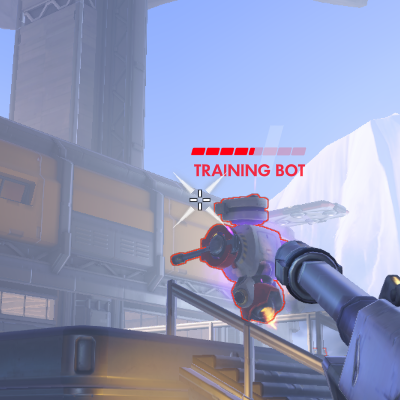hpbar: (191, 147, 306, 155)
